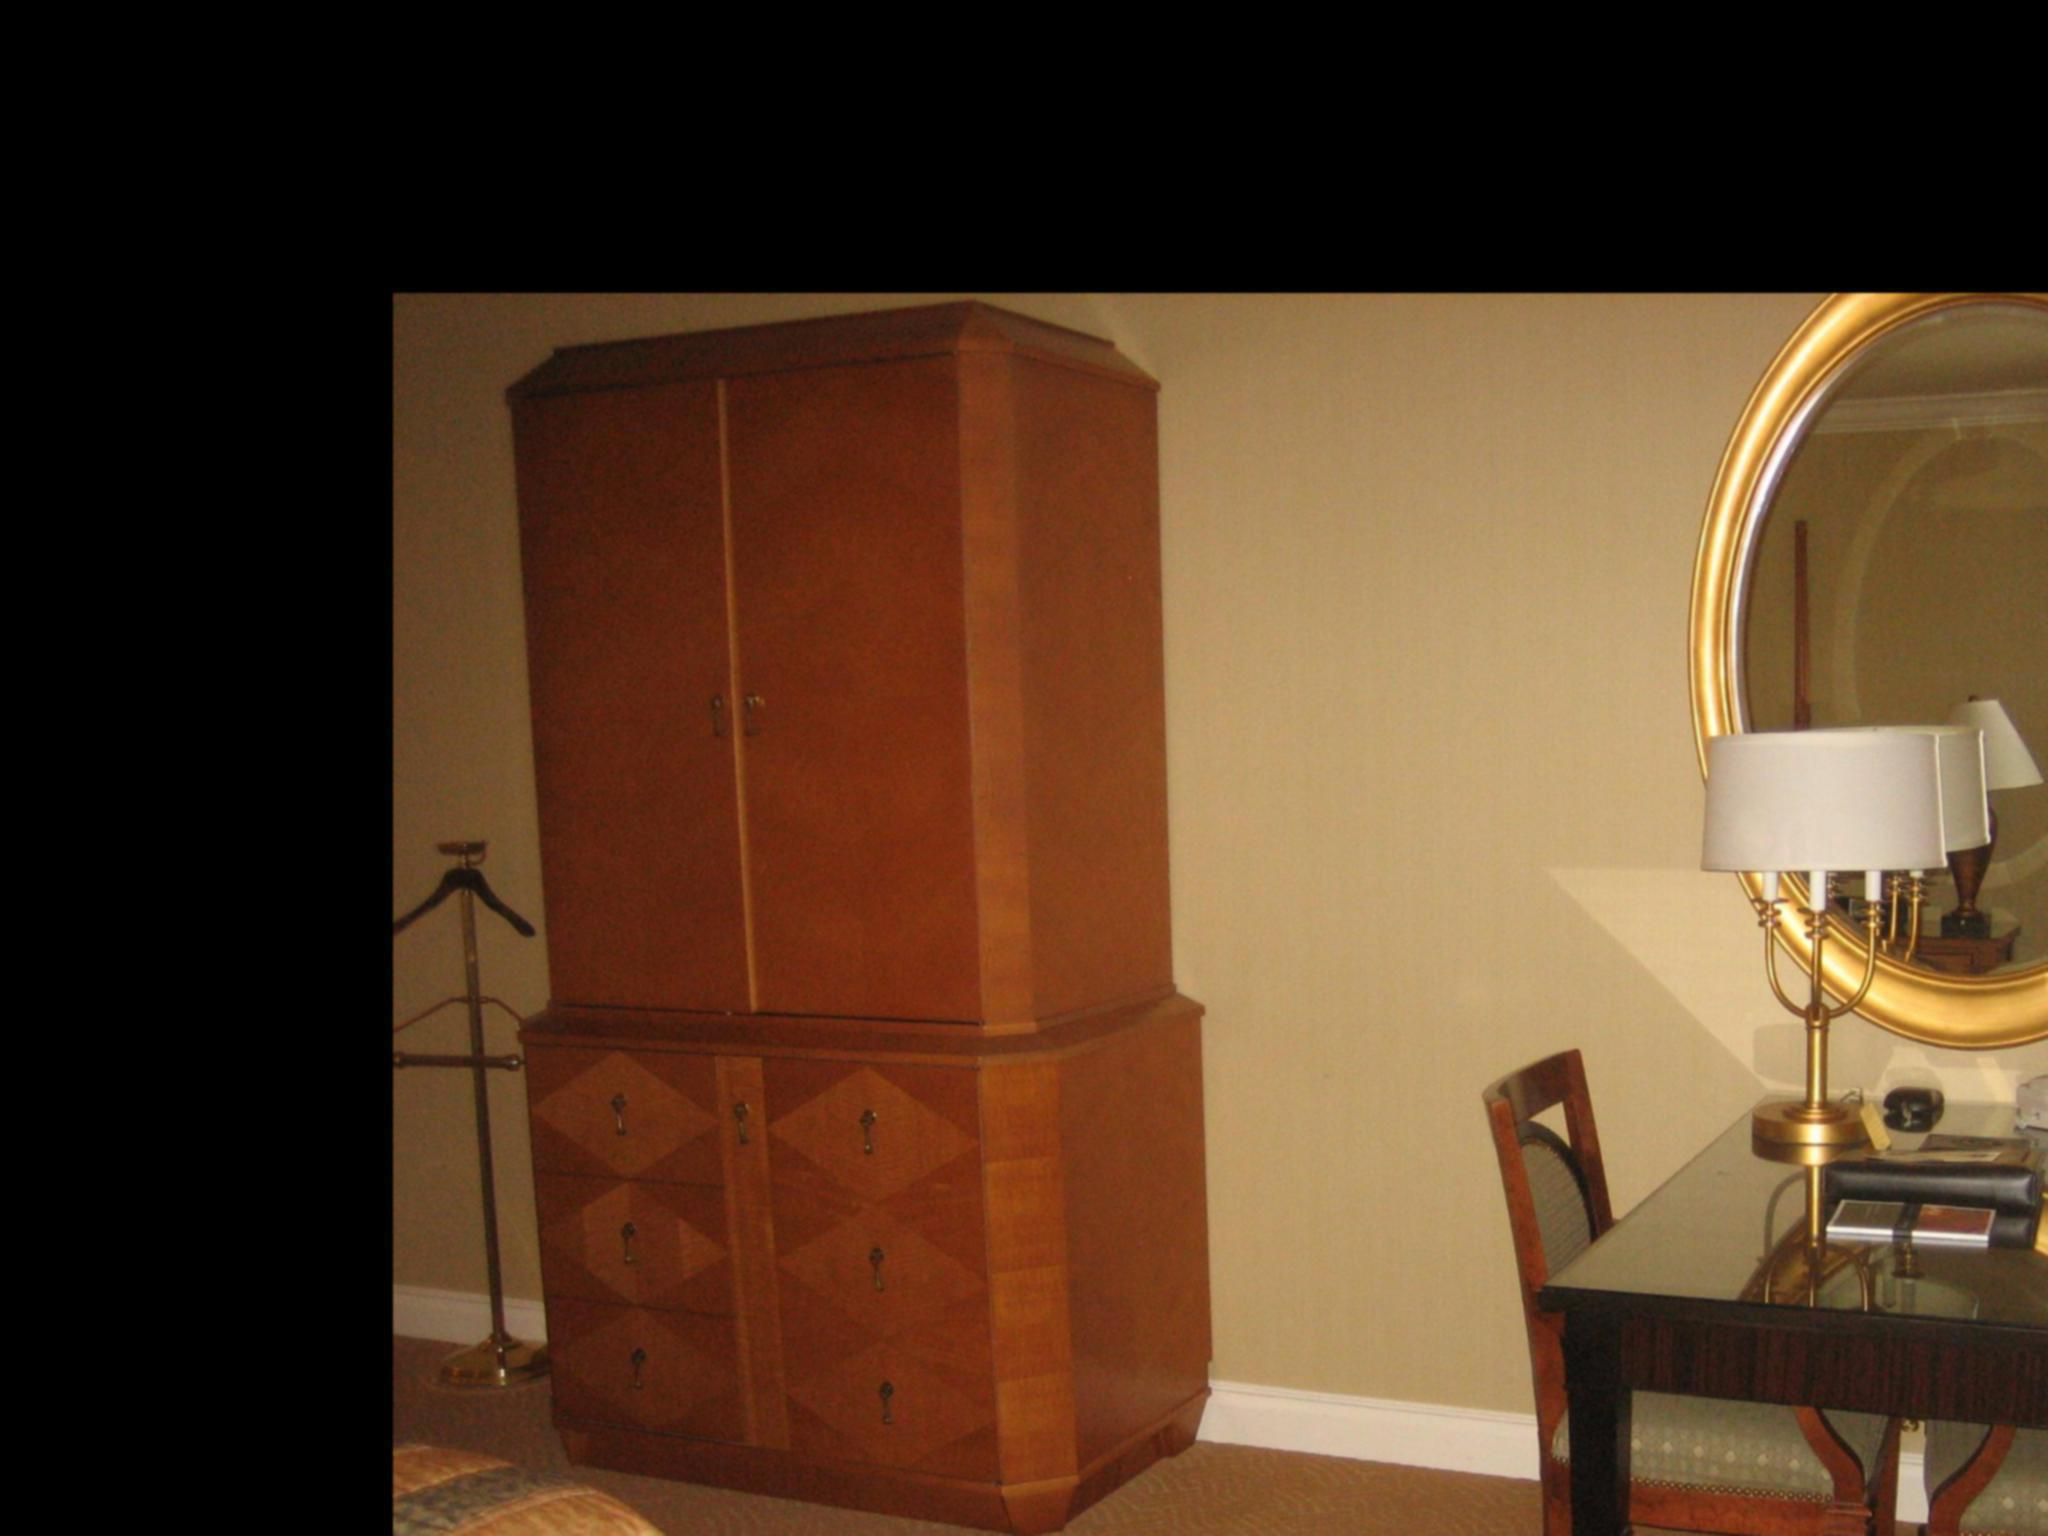Armario: (485, 378, 1219, 1512)
